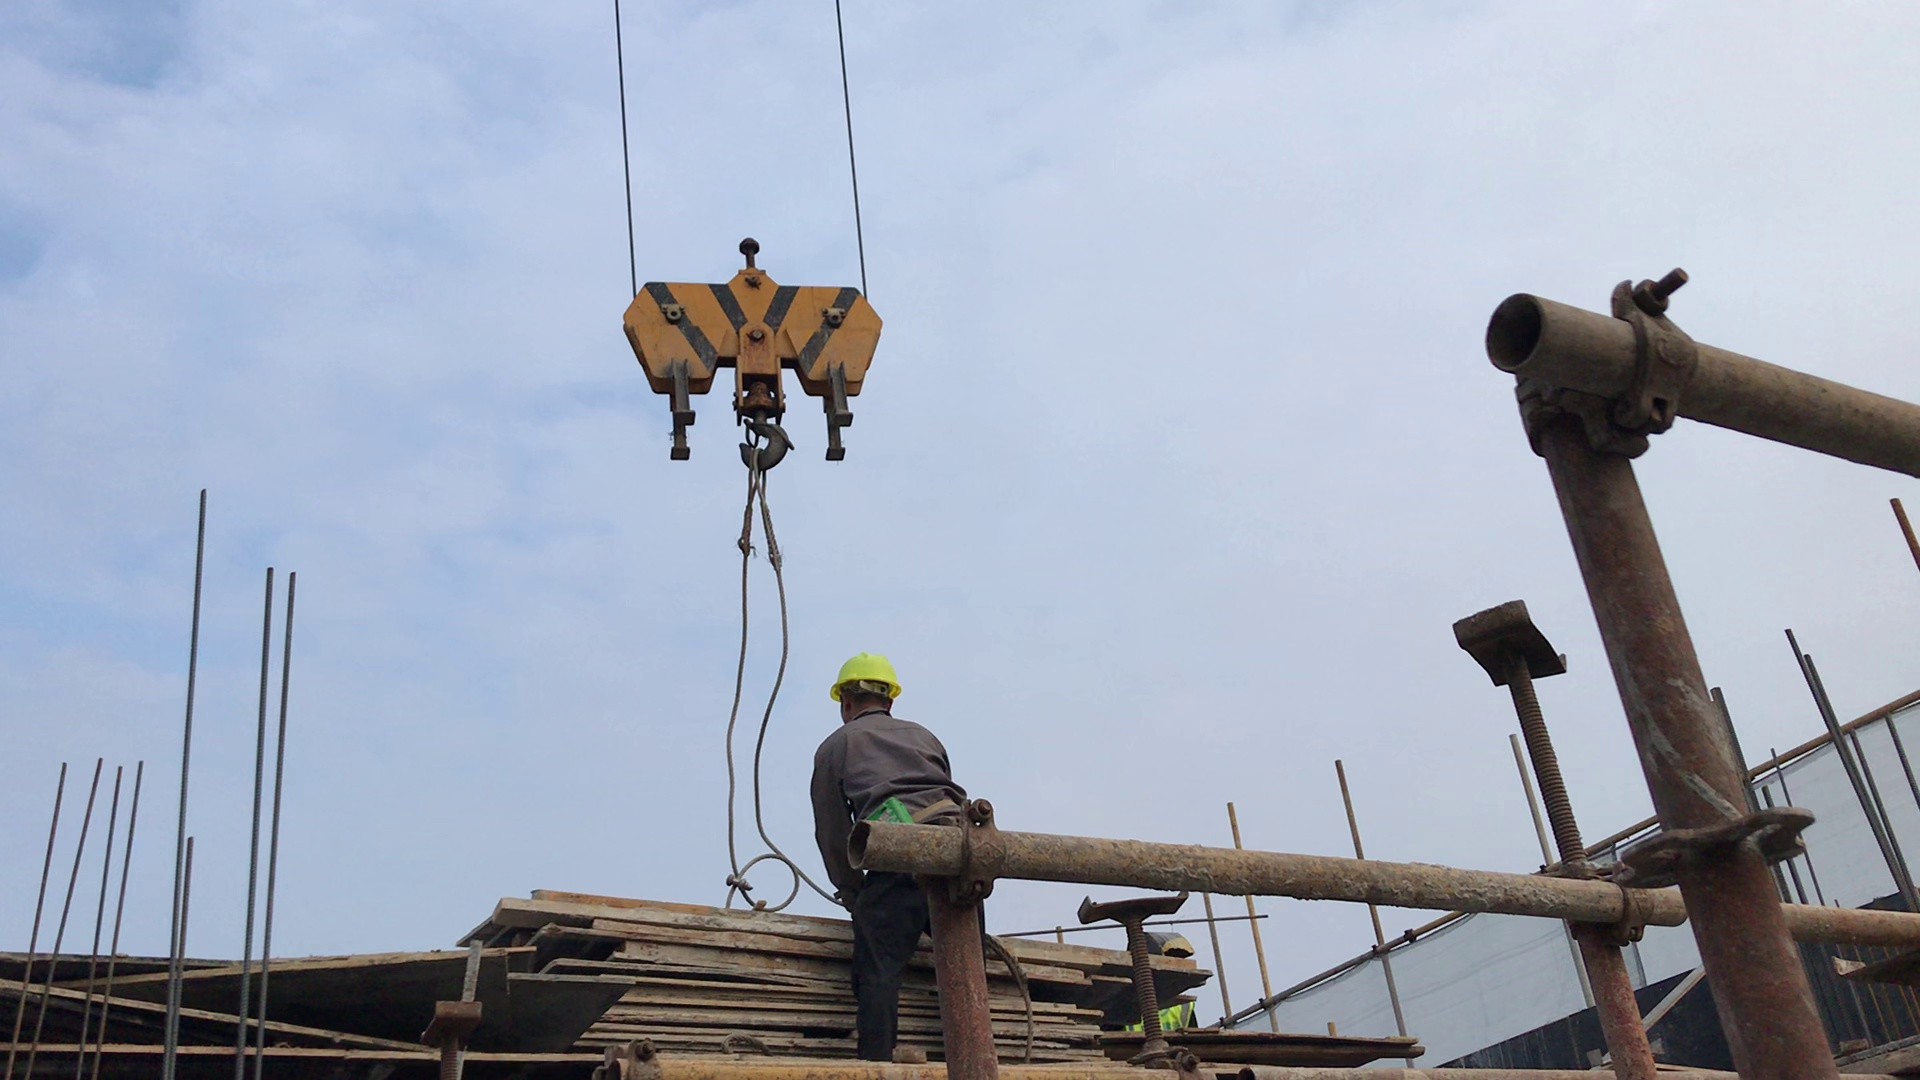board: (458, 882, 849, 1057)
helmet: (828, 653, 904, 701)
hook: (626, 237, 881, 469)
person: (806, 652, 1001, 1072)
